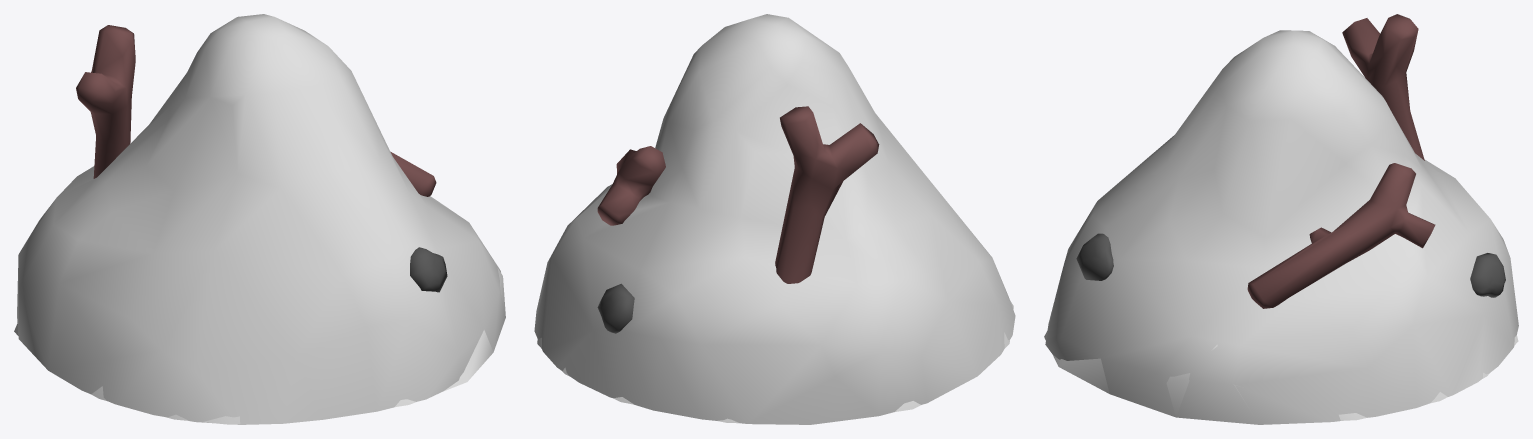
The model's file is snowy-pad.fbx.
3 views of the same model, side by side, from view 1: azimuth 30°, elevation 25°; view 2: azimuth 150°, elevation 25°; view 3: azimuth 270°, elevation 25° (orthographic). The views are drawn at different scales.
Parts seen in each view (by area): view 1: Snow-Big, Snow-Small; view 2: Snow-Big; view 3: Snow-Big, Snow-Small.
Part boxes in pixels (left/top/right/bottom): Snow-Big: left=17, top=14, right=505, bottom=424; Snow-Small: left=14, top=234, right=505, bottom=424; Snow-Big: left=534, top=14, right=1015, bottom=424; Snow-Big: left=1045, top=14, right=1518, bottom=424; Snow-Small: left=1044, top=330, right=1518, bottom=421.
Bounding box in the file's own units: 1.07 × 0.7459 × 1.09.
